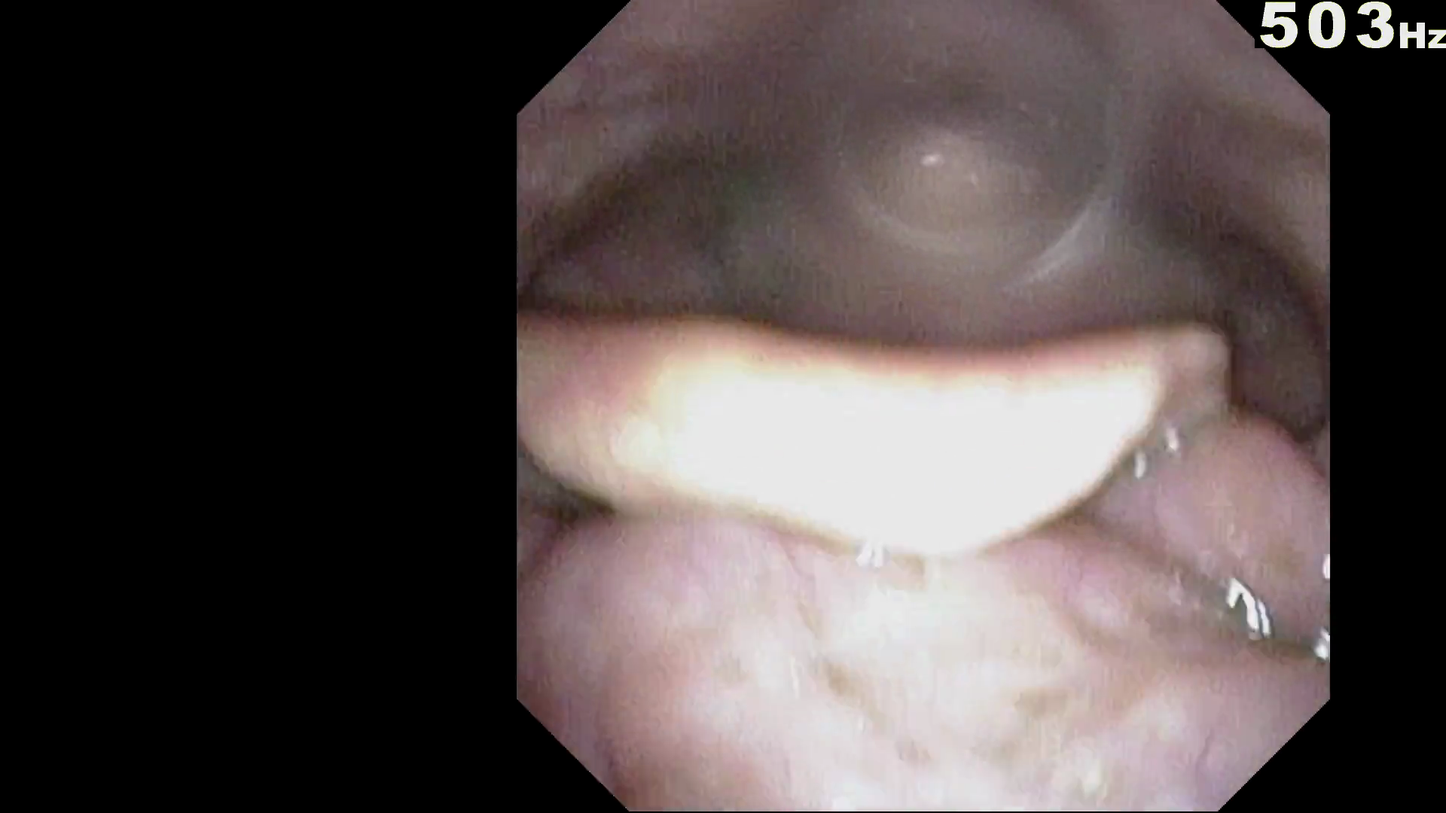epiglottis: (607, 352, 1223, 577)
